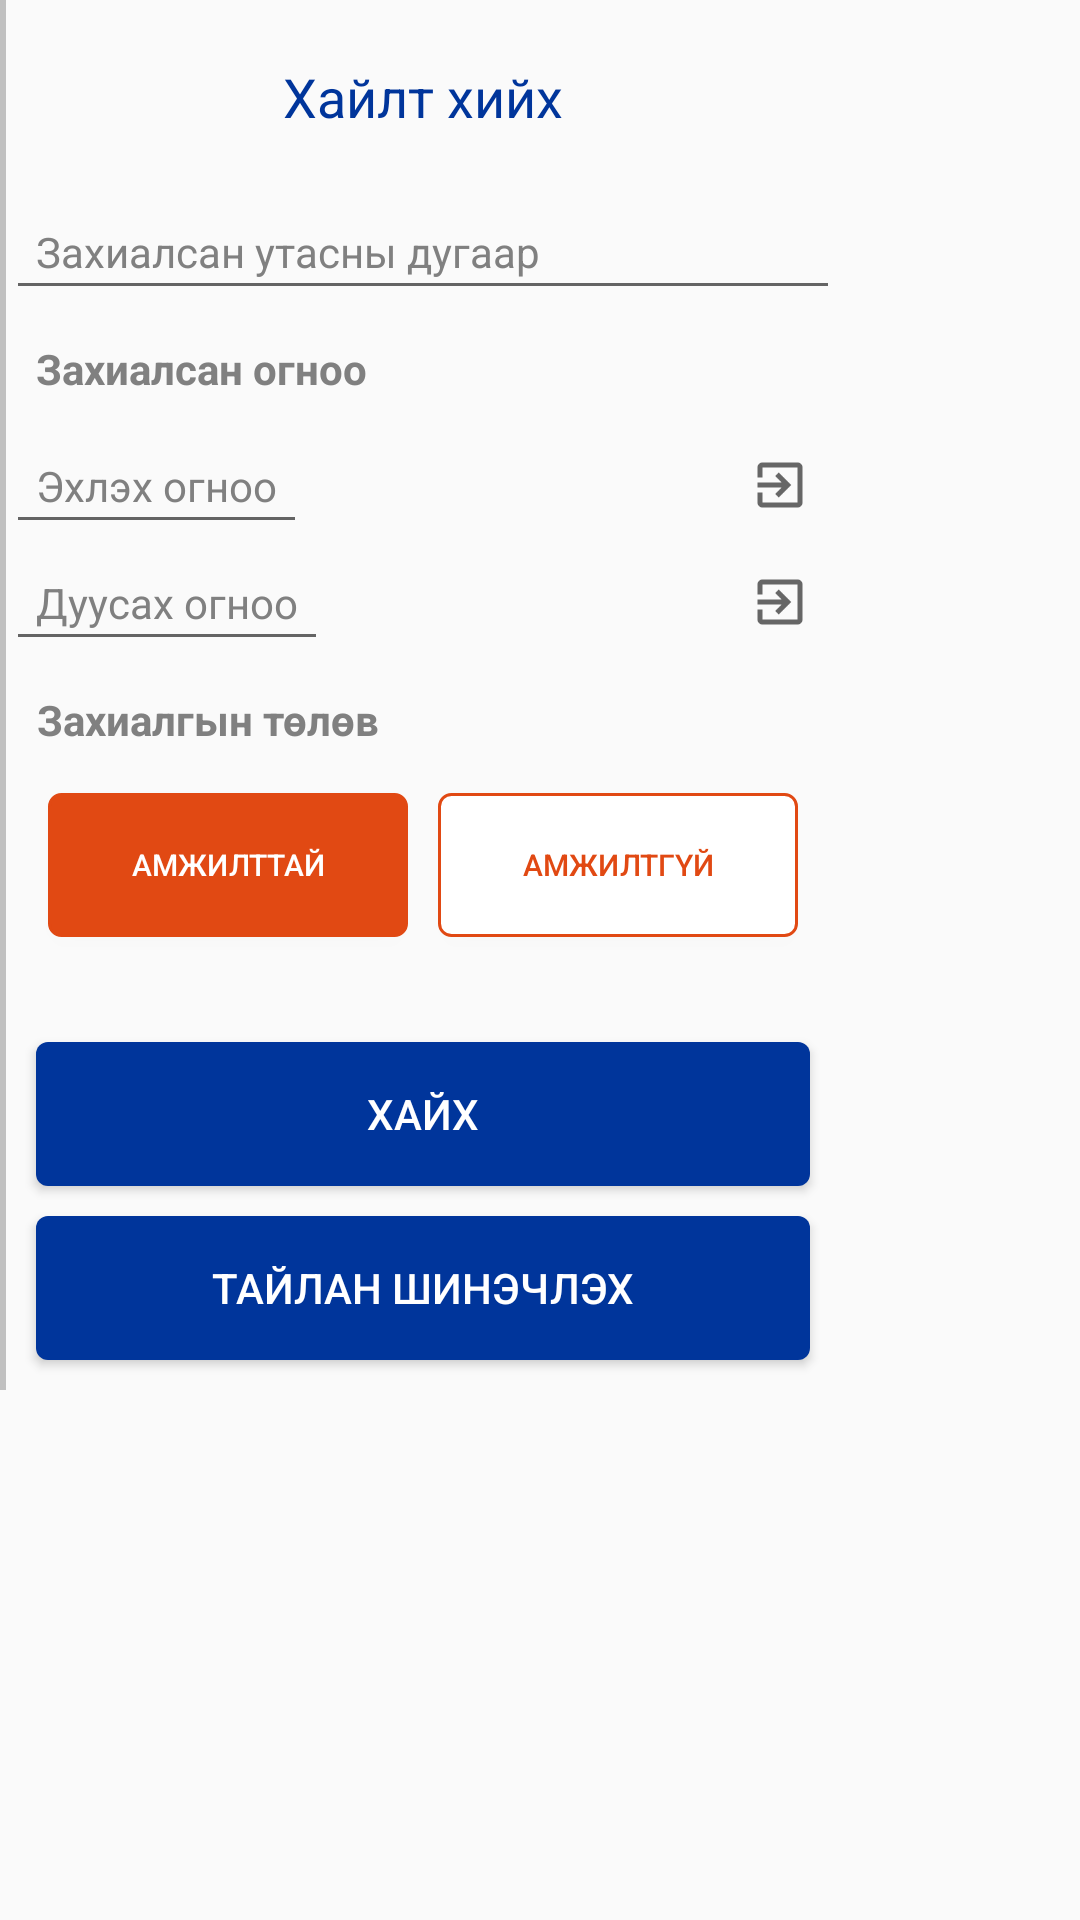

Where to tap for icons on this 1080*1920 app screen, as (x=x, y=y):
exit: (x=780, y=485), (x=780, y=602)
